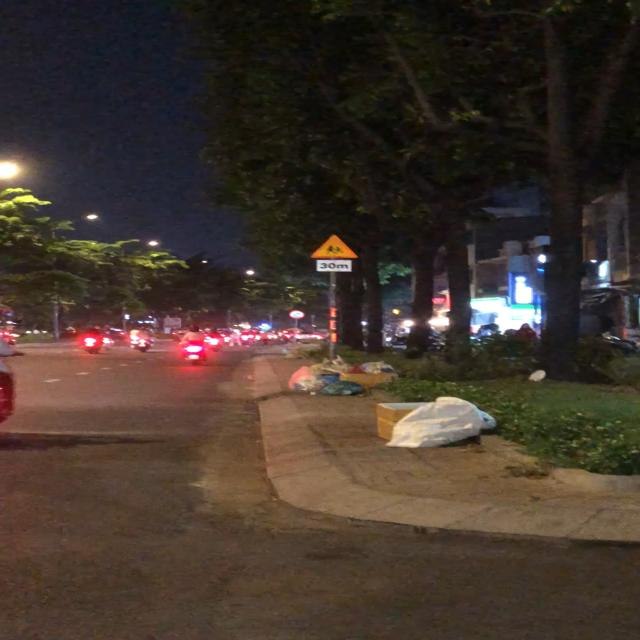Bien bao tre em: (307, 233, 362, 261)
